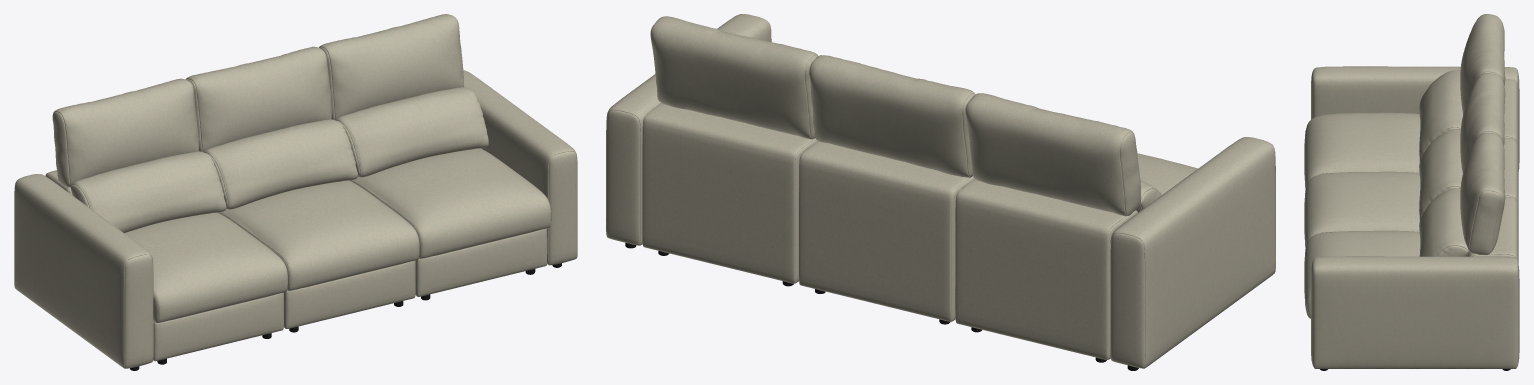
File: malmkoping_sofa_3_osobowa_79626631.glb
The picture shows the model from 3 angles, left to right: view 1: azimuth 30°, elevation 25°; view 2: azimuth 150°, elevation 25°; view 3: azimuth 270°, elevation 25°; orthographic projection. The views are drawn at different scales.
Parts seen in each view (by area): view 1: malmkoping_sofa_3_osobowa_79626631; view 2: malmkoping_sofa_3_osobowa_79626631; view 3: malmkoping_sofa_3_osobowa_79626631.
Part boxes in pixels (left/top/right/bottom): malmkoping_sofa_3_osobowa_79626631: left=14, top=14, right=577, bottom=370; malmkoping_sofa_3_osobowa_79626631: left=606, top=14, right=1275, bottom=370; malmkoping_sofa_3_osobowa_79626631: left=1304, top=14, right=1519, bottom=370.
Size of the model in its own units: 2.53 by 1 by 1.12.
Materials: 2 (1 with a texture image).
